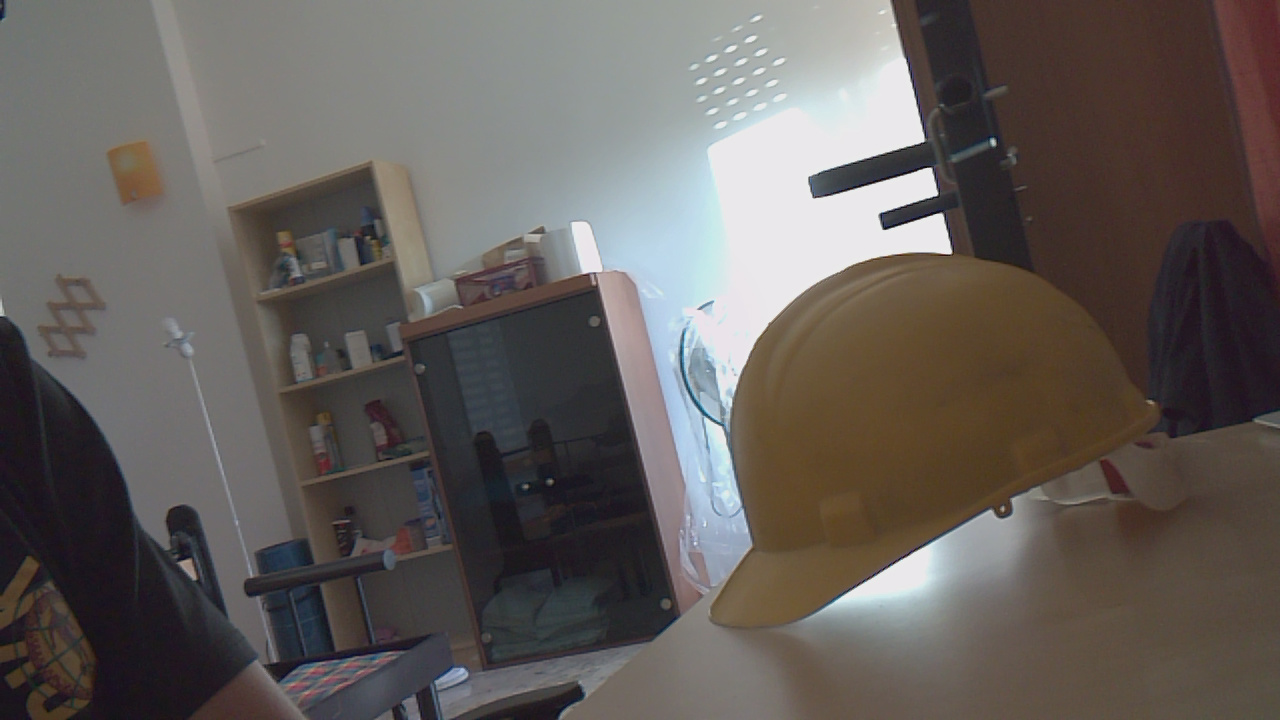Helmet: (709, 252, 1202, 644)
